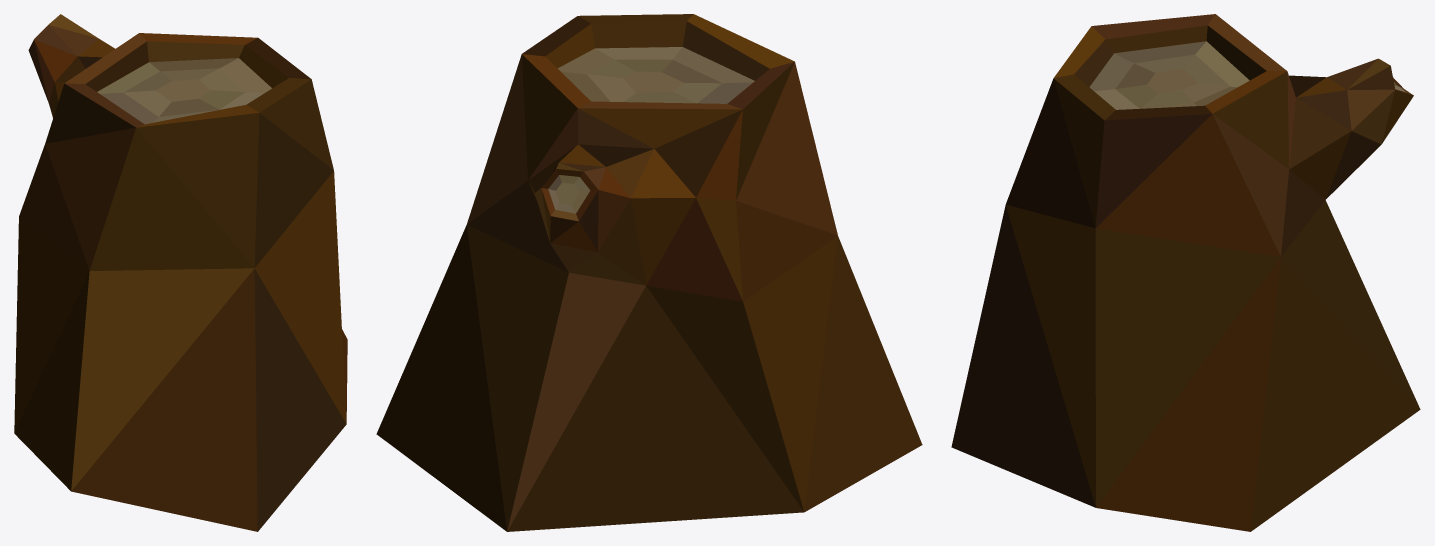
File: Trunk01.glb
3 views of the same model, side by side, from view 1: azimuth 30°, elevation 25°; view 2: azimuth 150°, elevation 25°; view 3: azimuth 270°, elevation 25° (orthographic). The views are drawn at different scales.
Parts seen in each view (by area): view 1: Trunk01; view 2: Trunk01; view 3: Trunk01.
Boxes of the visible parts, left/top/right/bottom form: Trunk01: left=14, top=14, right=347, bottom=531; Trunk01: left=376, top=14, right=922, bottom=531; Trunk01: left=951, top=14, right=1420, bottom=531.
Bounding box in the file's own units: 0.9876 × 0.9447 × 1.01.
